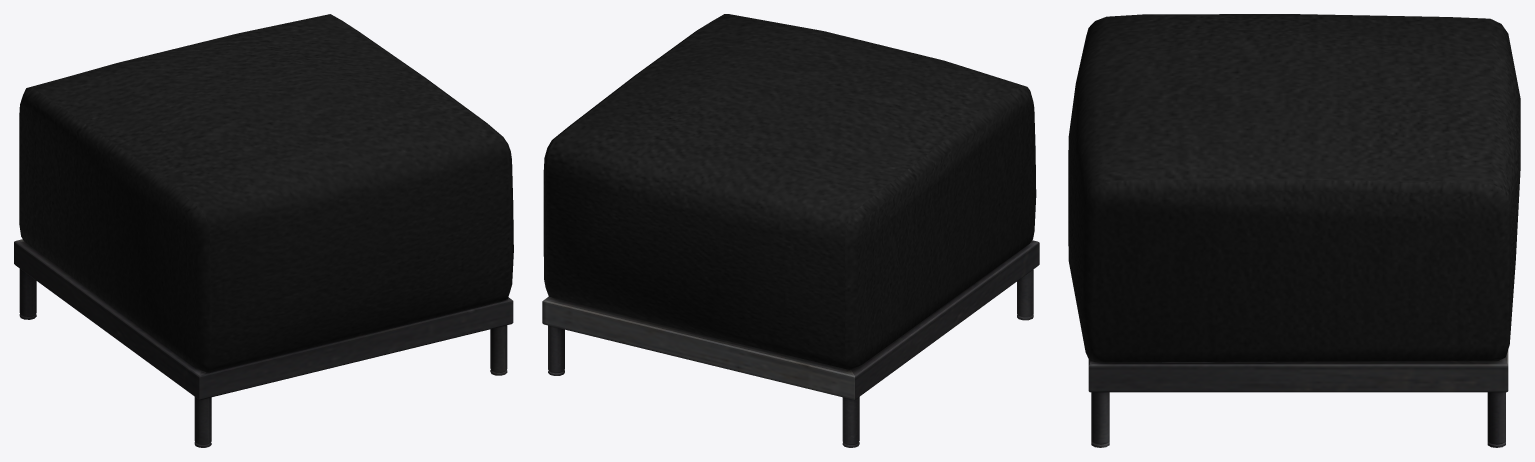
File: buttchair-1.FBX
3 views of the same model, side by side, from view 1: azimuth 30°, elevation 25°; view 2: azimuth 150°, elevation 25°; view 3: azimuth 270°, elevation 25° (orthographic). The views are drawn at different scales.
Parts seen in each view (by area): view 1: buttchair-1_LOD0; view 2: buttchair-1_LOD0; view 3: buttchair-1_LOD0.
Boxes of the visible parts, <box> form: buttchair-1_LOD0: <box>14,14,513,447</box>; buttchair-1_LOD0: <box>542,14,1039,447</box>; buttchair-1_LOD0: <box>1068,14,1520,447</box>.
Size of what is drawn, in the model's own units: 23.22 by 17.43 by 25.41.
